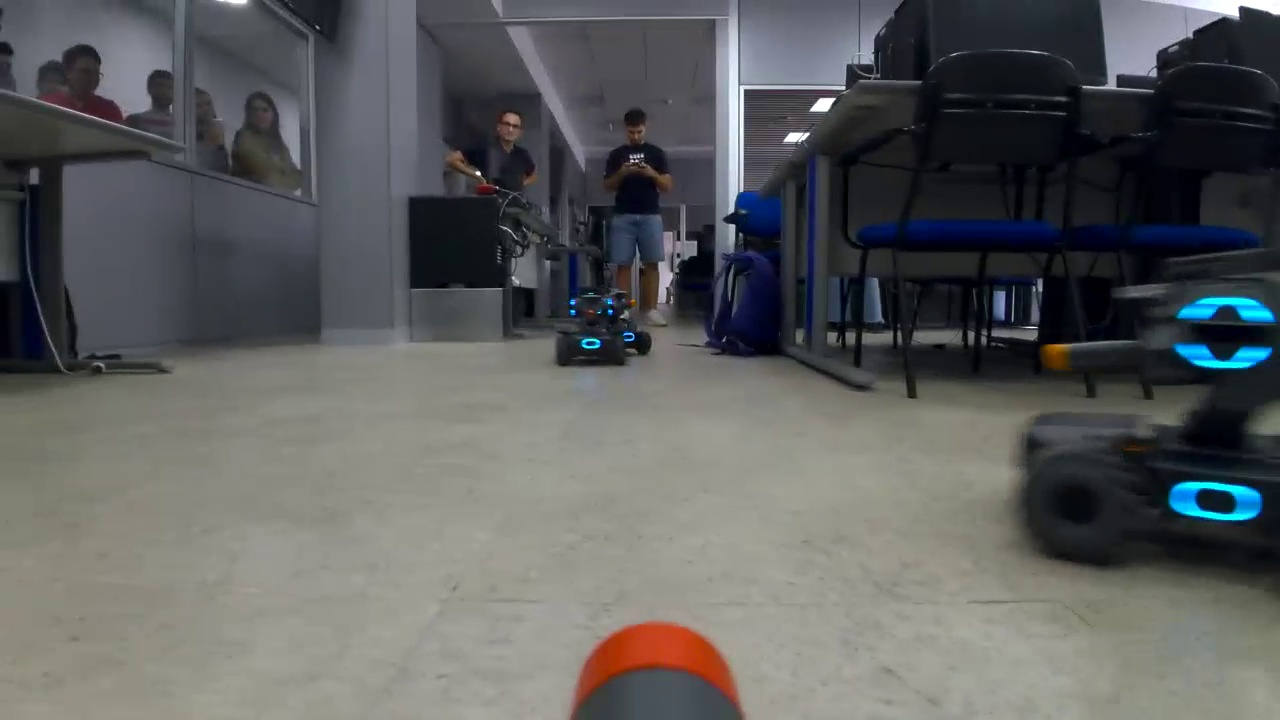robot: (1014, 270, 1280, 593), (550, 284, 632, 373), (600, 285, 658, 358)
